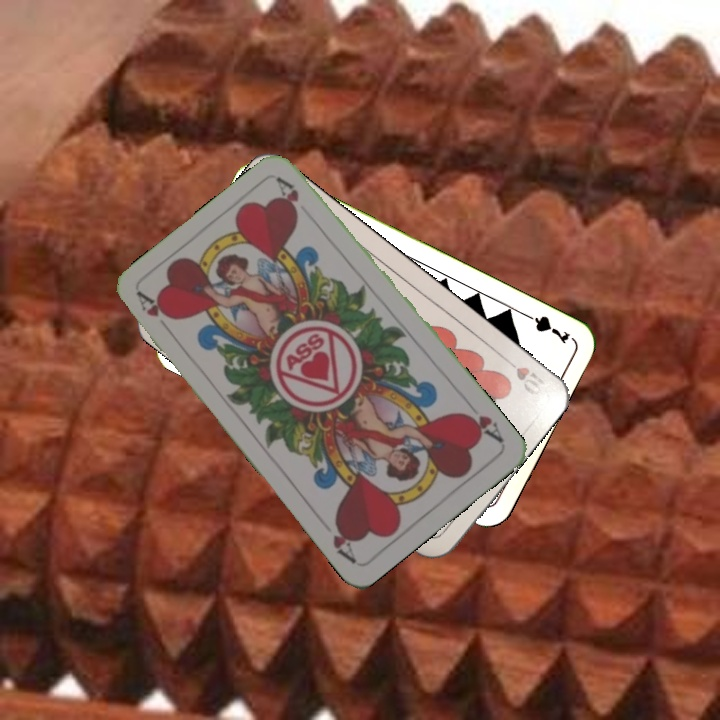G7: (517, 308, 573, 347)
H10: (499, 352, 551, 398)
HA: (456, 407, 507, 446), (134, 288, 178, 324)
